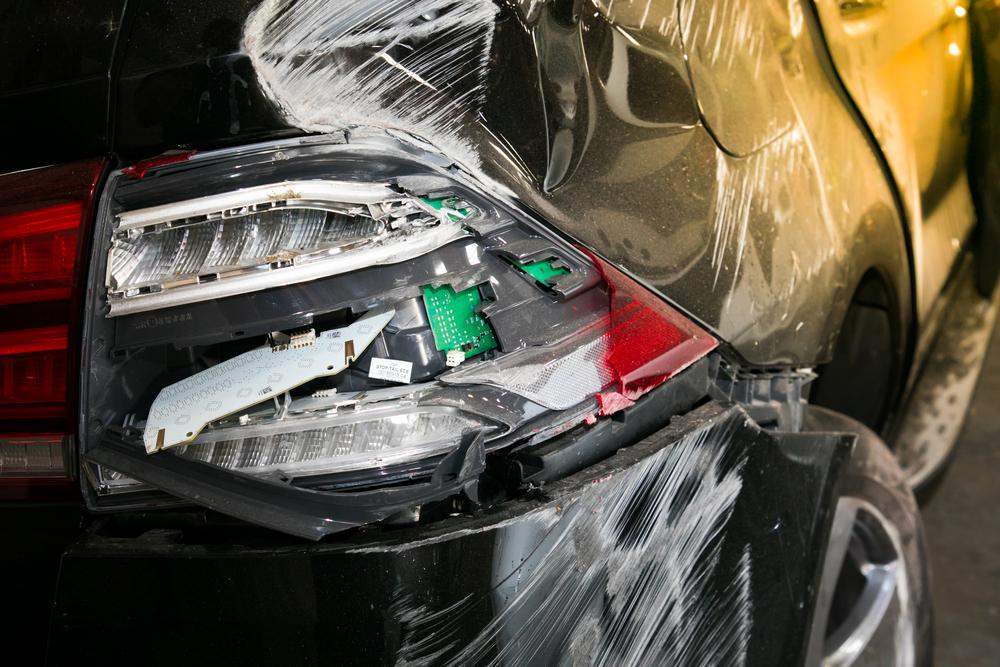dent: (511, 0, 718, 272)
lamp broken: (79, 134, 732, 534)
scratch: (344, 406, 760, 667), (237, 0, 520, 198), (708, 135, 834, 313), (634, 0, 766, 63)
